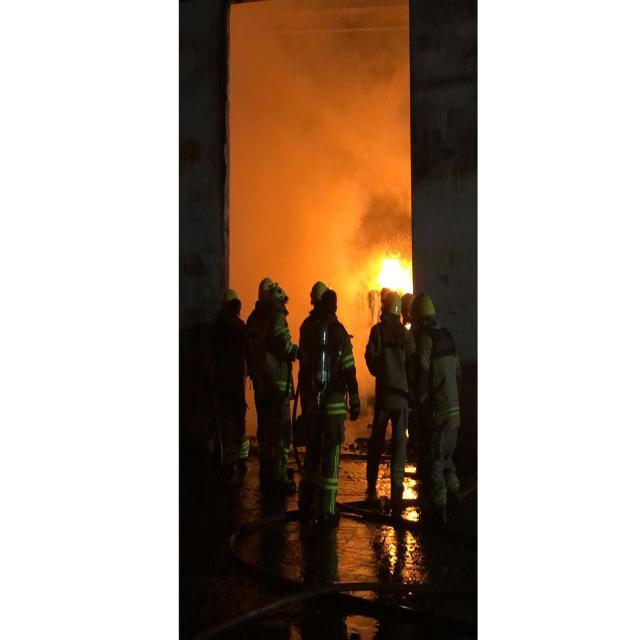Fire: (376, 255, 413, 297)
